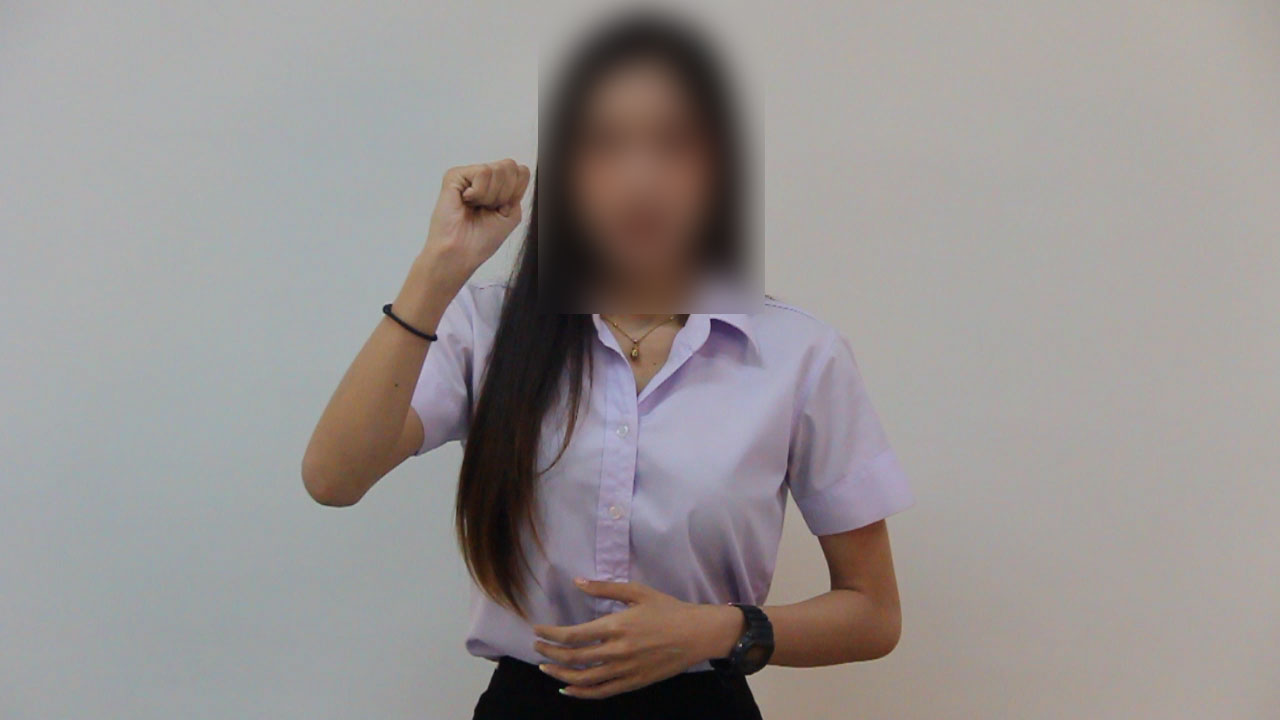sor: (403, 146, 531, 295)
